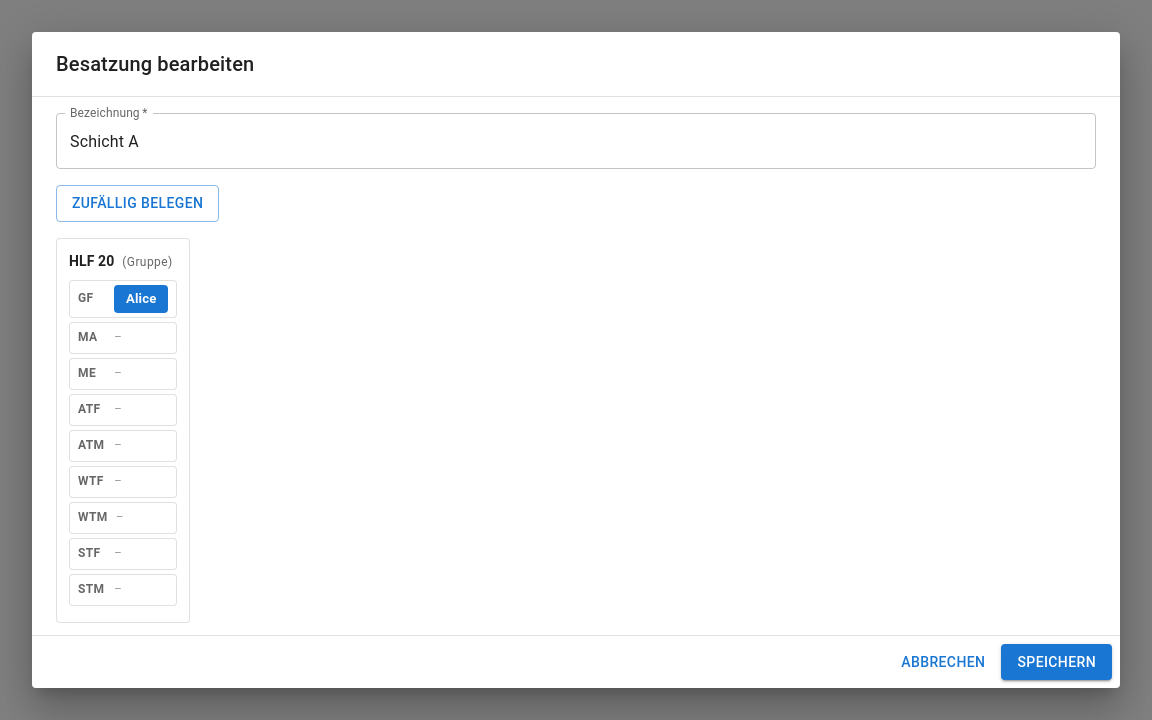
Scenario: RosterDialog — edit mode › shows random-assign confirm dialog in edit mode
The image size is (1152, 720).
Click the button with test id "random-assign-button".
click(138, 203)  # box [56, 185, 220, 222]
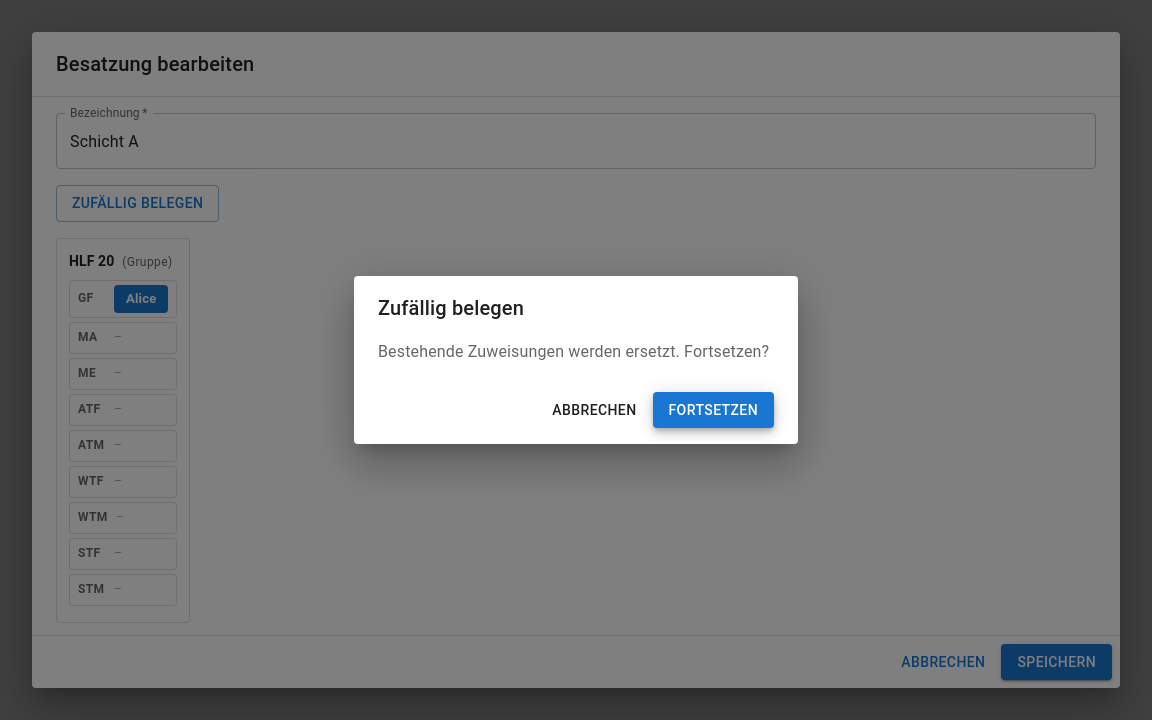
Result: the text "Bestehende Zuweisungen werden ersetzt. Fortsetzen?" is shown at [378, 340, 774, 364]
